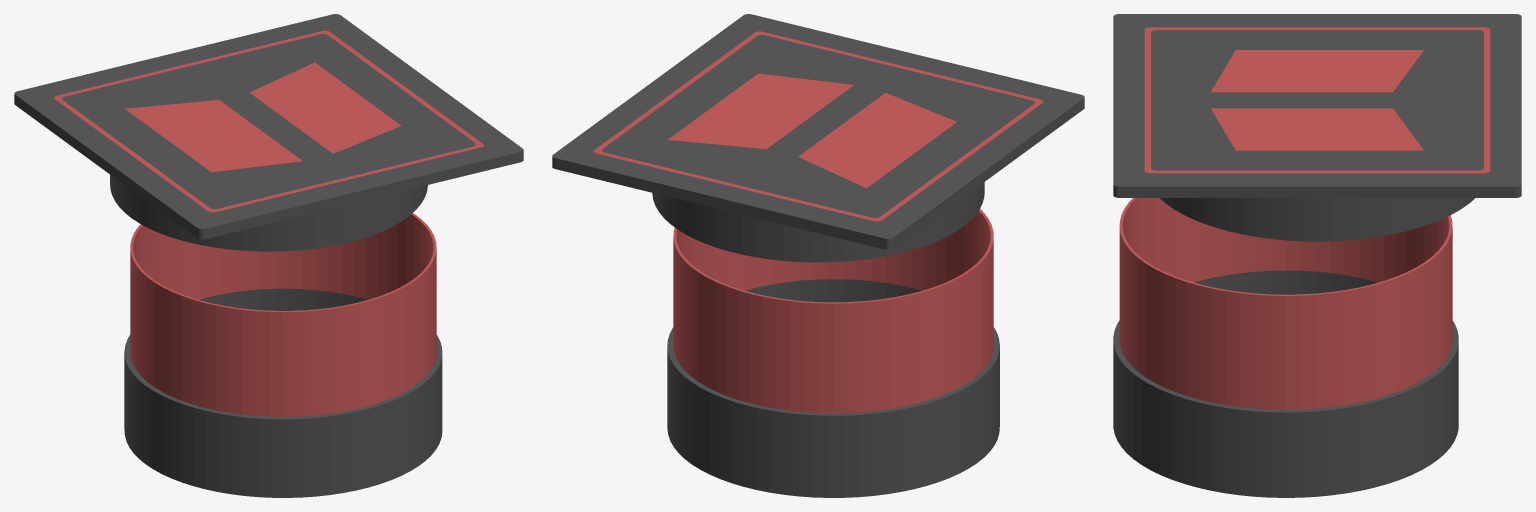
The model's file is bomboniera-lettere-facolta-aperto.glb.
The picture shows the model from 3 angles, left to right: view 1: azimuth 30°, elevation 25°; view 2: azimuth 150°, elevation 25°; view 3: azimuth 270°, elevation 25°; orthographic projection. The views are drawn at different scales.
Parts seen in each view (by area): view 1: struttura_coperchio, fascia, struttura_base, simbolo_intarsio, bordo; view 2: struttura_coperchio, fascia, struttura_base, simbolo_intarsio, bordo; view 3: struttura_coperchio, fascia, struttura_base, simbolo_intarsio, bordo.
Part boxes in pixels (x1=…): struttura_coperchio: x1=14, y1=14, x2=523, y2=251; fascia: x1=130, y1=213, x2=436, y2=416; struttura_base: x1=124, y1=288, x2=442, y2=497; simbolo_intarsio: x1=125, y1=62, x2=401, y2=172; bordo: x1=54, y1=30, x2=483, y2=212; struttura_coperchio: x1=552, y1=14, x2=1084, y2=262; fascia: x1=673, y1=209, x2=993, y2=413; struttura_base: x1=667, y1=279, x2=999, y2=497; simbolo_intarsio: x1=668, y1=73, x2=956, y2=188; bordo: x1=593, y1=31, x2=1043, y2=221; struttura_coperchio: x1=1113, y1=14, x2=1521, y2=241; fascia: x1=1119, y1=198, x2=1452, y2=409; struttura_base: x1=1113, y1=270, x2=1458, y2=497; simbolo_intarsio: x1=1211, y1=50, x2=1423, y2=150; bordo: x1=1144, y1=27, x2=1490, y2=173.
Size of the model in its own units: 0.065 by 0.057 by 0.065.
